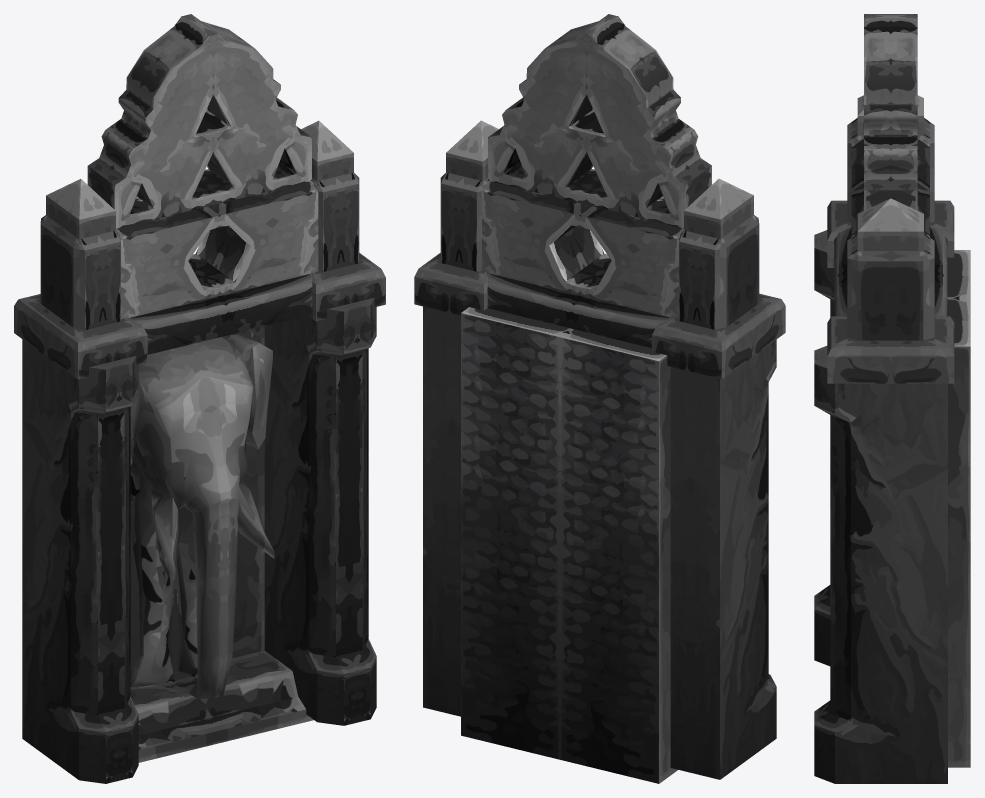
Rendered from VV-WalakuluBemma-5.fbx.
The picture shows the model from 3 angles, left to right: view 1: azimuth 30°, elevation 25°; view 2: azimuth 150°, elevation 25°; view 3: azimuth 270°, elevation 25°; orthographic projection.
Parts seen in each view (by area): view 1: WalakuluBemmaBuild-5; view 2: WalakuluBemmaBuild-5; view 3: WalakuluBemmaBuild-5.
Part boxes in pixels (x1=…): WalakuluBemmaBuild-5: x1=14, y1=14, x2=385, y2=783; WalakuluBemmaBuild-5: x1=414, y1=14, x2=785, y2=783; WalakuluBemmaBuild-5: x1=814, y1=14, x2=970, y2=783.
Size of the model in its own units: 1.55 by 3.4 by 0.6858.
